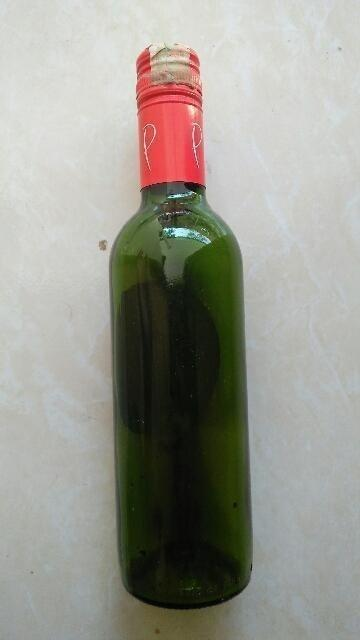bottle-glass: (106, 38, 260, 610)
